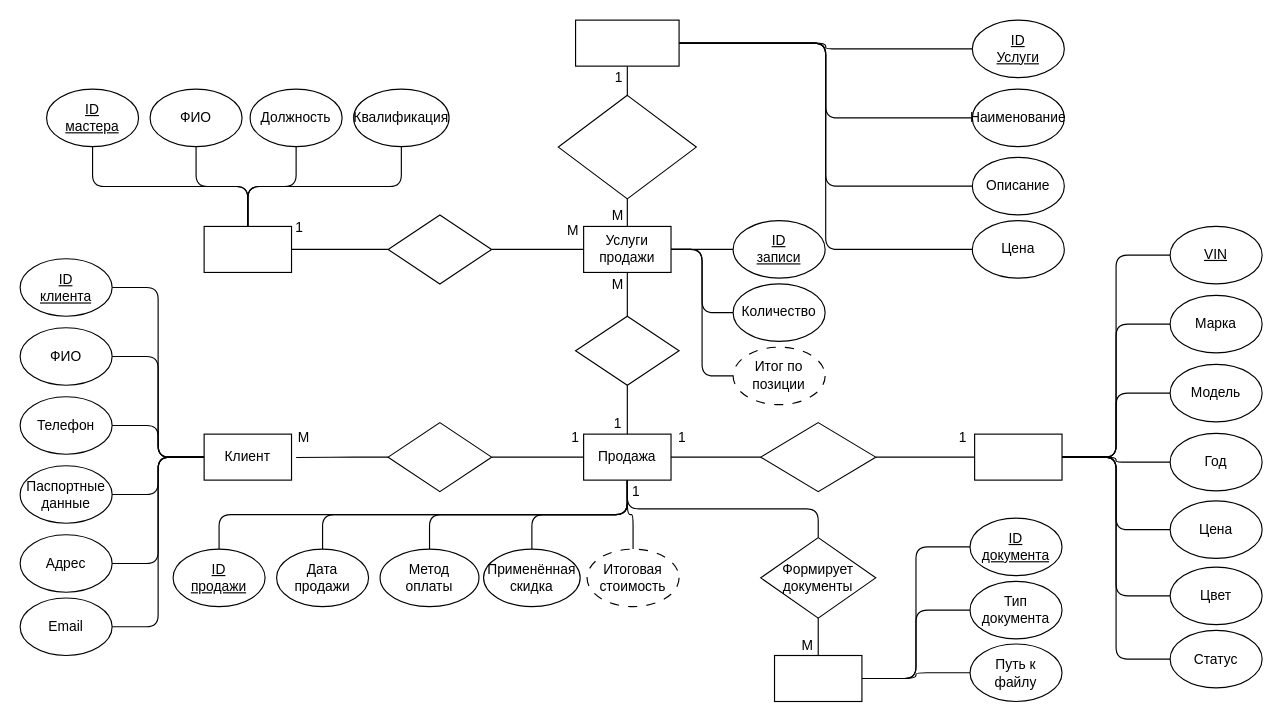
Image size: 1282x722. Some labels were removed from this diagram. Each missing label, with the centre of its shape:
"Автомобиль" belongs at point 1017,456.
"Включает услугу" belongs at point 626,350.
"Входит в набор услуг продажи" belongs at point 626,146.
"Выполняет" belongs at point 439,249.
"Документ" belongs at point 817,678.
"Доп. услуга" belongs at point 626,42.
"Мастер" belongs at point 247,248.
"Оформляет" belongs at point 439,456.
"Покупает автомобиль" belongs at point 818,456.
